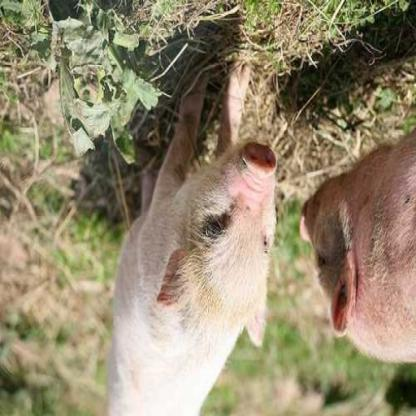boar: (92, 54, 296, 416), (296, 137, 415, 364)
